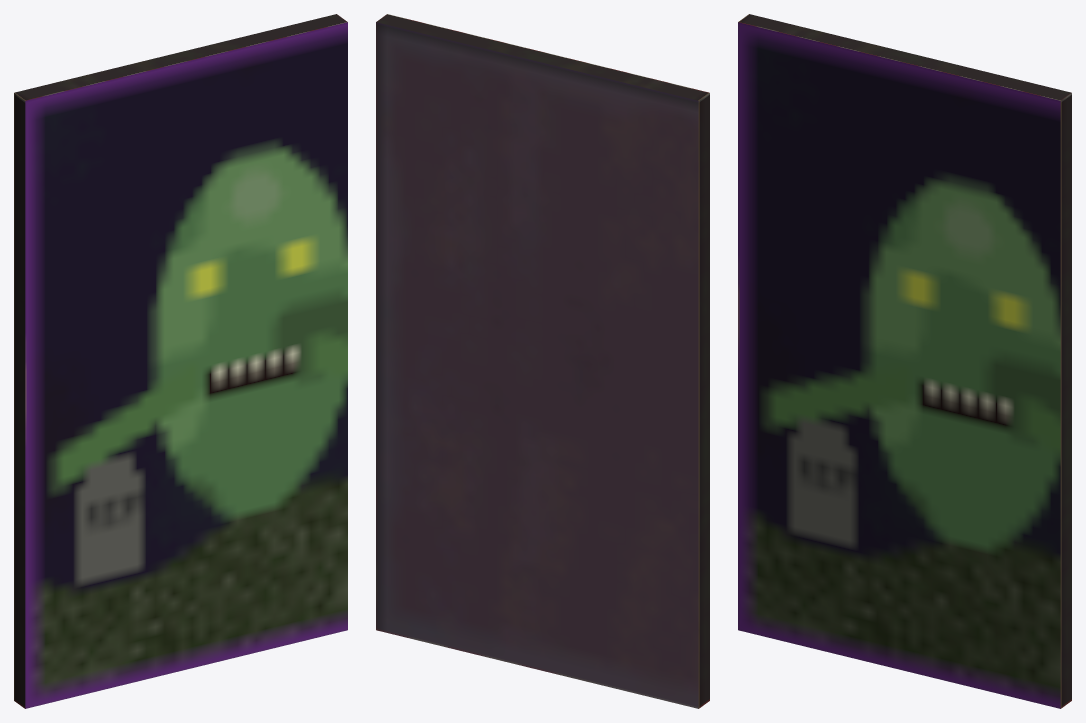
The model's file is dark_wall_painted.fbx.
The picture shows the model from 3 angles, left to right: view 1: azimuth 30°, elevation 25°; view 2: azimuth 150°, elevation 25°; view 3: azimuth 330°, elevation 25°; orthographic projection.
Visible parts, largest first — view 1: dark_wall_painted; view 2: dark_wall_painted; view 3: dark_wall_painted.
Boxes of the visible parts, x1,y1,x2,y2 form: dark_wall_painted: (14, 14, 347, 708); dark_wall_painted: (376, 14, 709, 708); dark_wall_painted: (738, 14, 1071, 708).
Size of the model in its own units: 2 by 3.6 by 0.12.
1 material, 1 textured.
